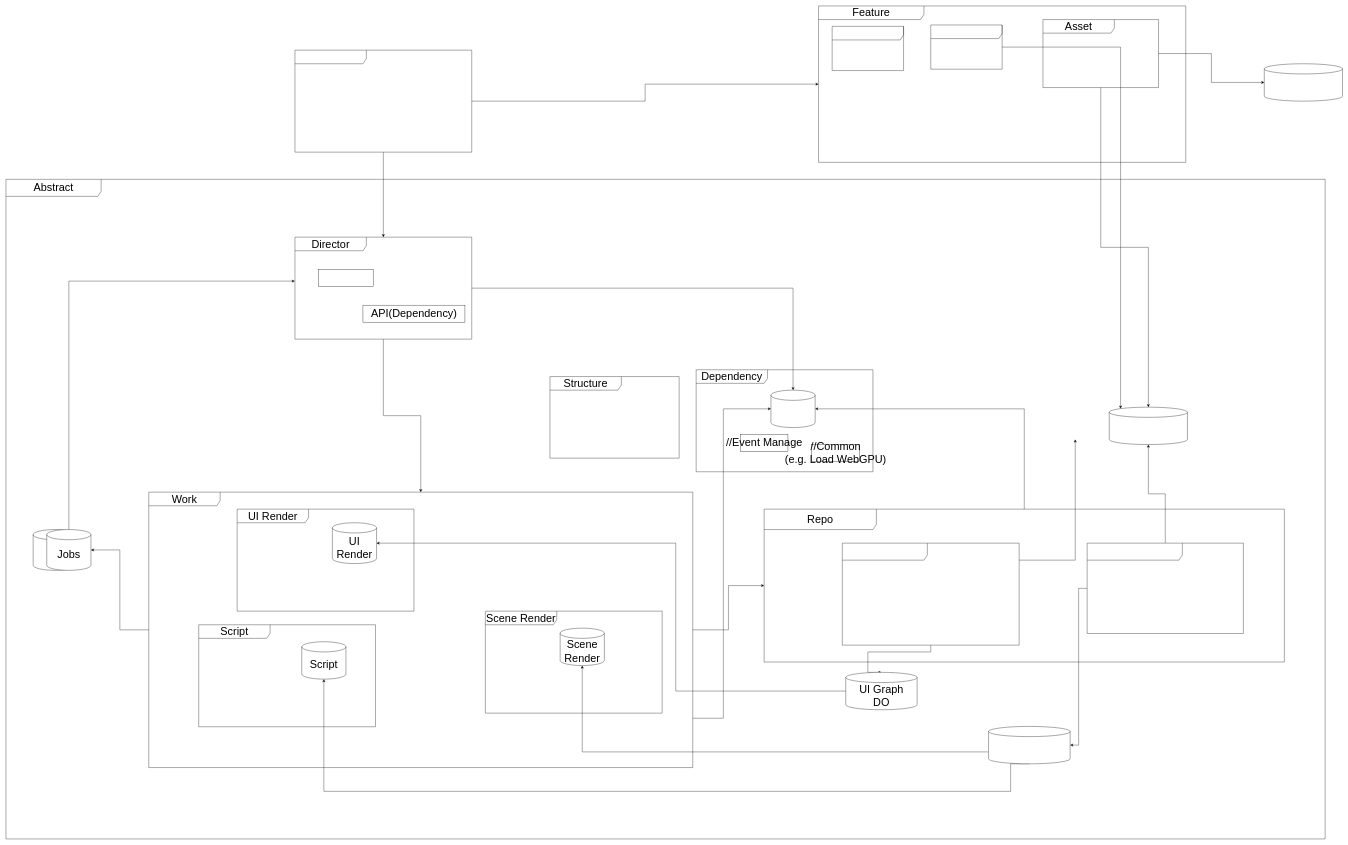
This 1348x845 diagram has some shape labels left out. Here are the shapes that lost their labels. From the top down, the centre of each, then its label:
At (868,48): "UI".
At (966,47): "Scene".
At (383,101): "APP".
At (1303,82): "Scene Graph PO".
At (345,277): "init,update,render".
At (793,409): "DP Container".
At (1148,426): "Scene Graph VO".
At (930,594): "UI Graph Repo".
At (1165,588): "Scene Graph Repo".
At (1029,745): "Scene Graph DO".
